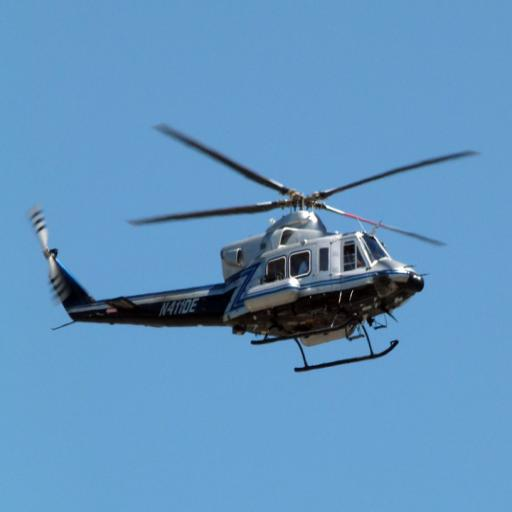helicopter: (32, 121, 478, 373)
